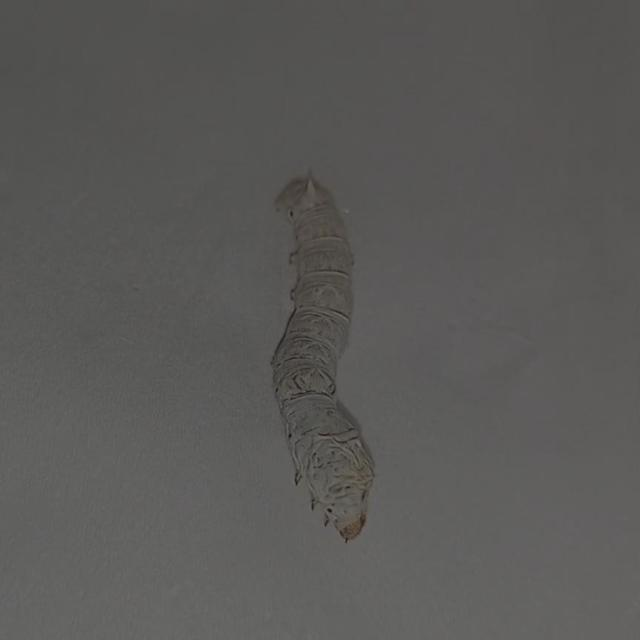Healthy: (228, 149, 410, 573)
